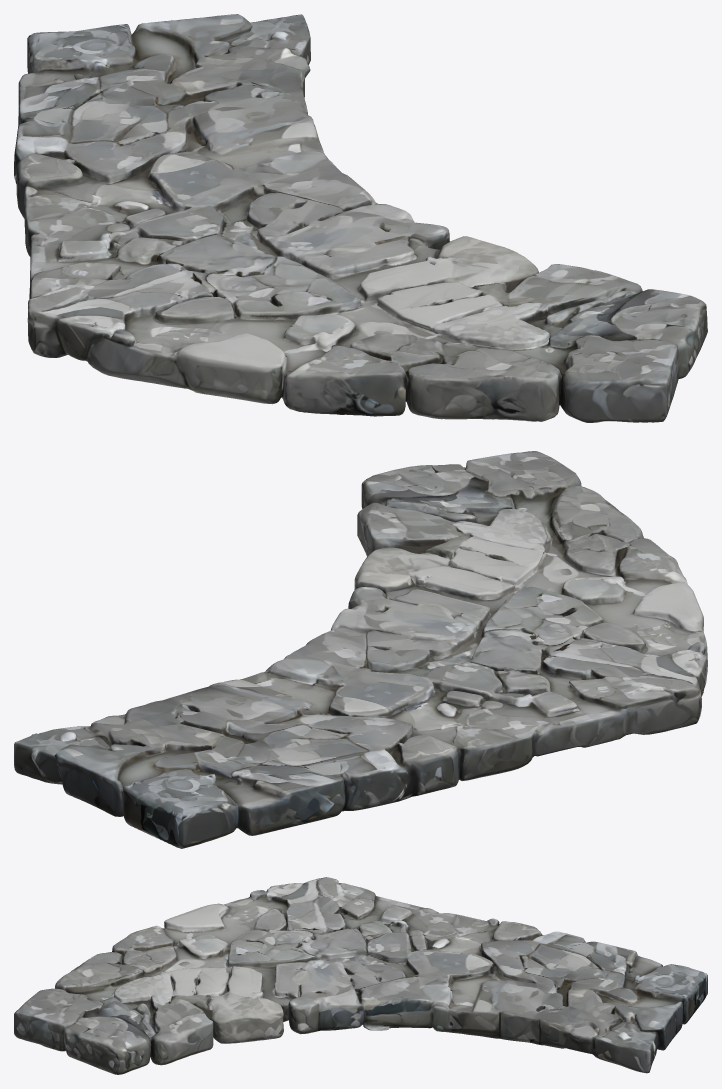
The model's file is nature-path-stone.glb.
3 views of the same model, one above another, from view 1: azimuth 30°, elevation 25°; view 2: azimuth 150°, elevation 25°; view 3: azimuth 270°, elevation 25° (orthographic). The views are drawn at different scales.
Visible parts, largest first — view 1: tripo_node_7b786f90-fcf1-435f-b39d-2d43179da7ed; view 2: tripo_node_7b786f90-fcf1-435f-b39d-2d43179da7ed; view 3: tripo_node_7b786f90-fcf1-435f-b39d-2d43179da7ed.
Part boxes in pixels (box(x1,y1,x2,y2)): tripo_node_7b786f90-fcf1-435f-b39d-2d43179da7ed: box(14, 14, 707, 422); tripo_node_7b786f90-fcf1-435f-b39d-2d43179da7ed: box(14, 451, 707, 848); tripo_node_7b786f90-fcf1-435f-b39d-2d43179da7ed: box(14, 877, 707, 1074).
Bounding box in the file's own units: 1.18 × 0.1001 × 2.02.
Materials: 1 (1 with a texture image).
